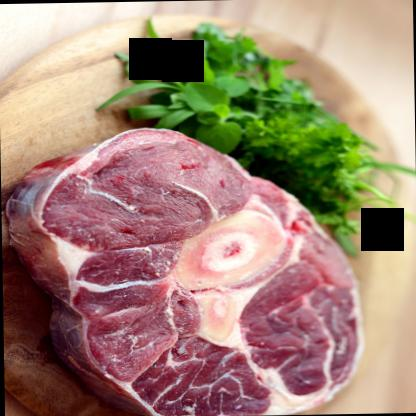beef: (1, 125, 366, 415)
